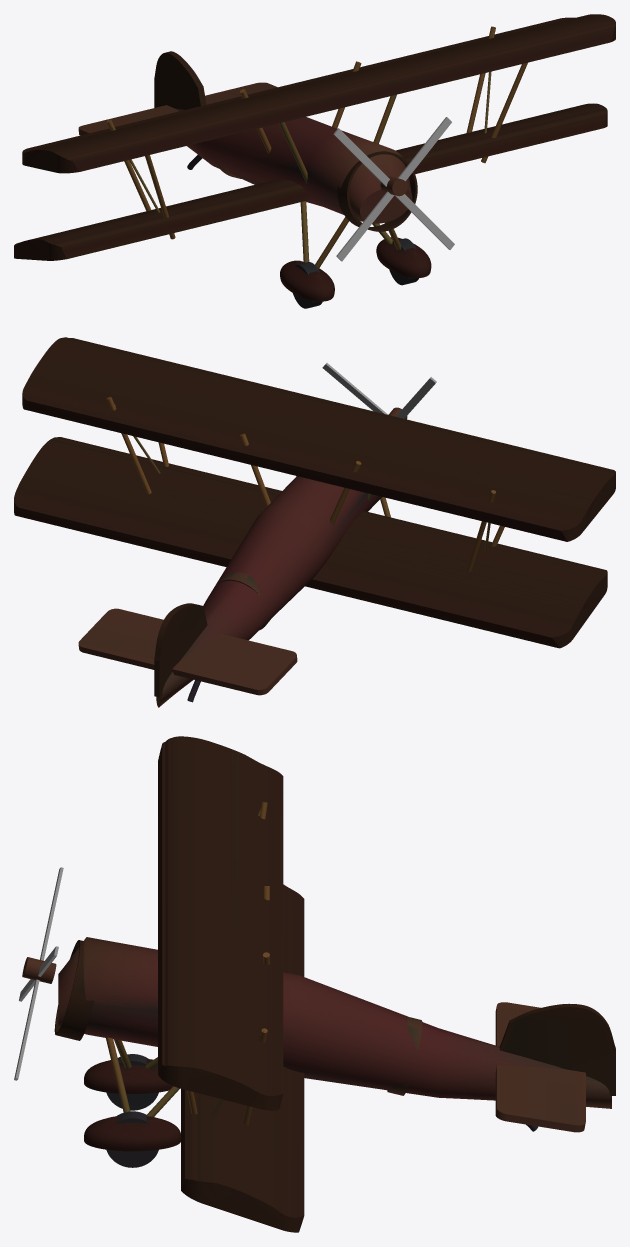
3 views of the same model, one above another, from view 1: azimuth 30°, elevation 25°; view 2: azimuth 150°, elevation 25°; view 3: azimuth 270°, elevation 25° (orthographic). The views are drawn at different scales.
Parts seen in each view (by area): view 1: upper_airfoil, lower_airfoil, body, fin, tailplane, wheel_cover.001, wheel_cover, blade.001, blade, nose_rim, wing_strut, wing_strut.001 (+2 smaller); view 2: upper_airfoil, lower_airfoil, body, tailplane, fin, blade.001; view 3: upper_airfoil, body, lower_airfoil, fin, tailplane, wheel_cover, wheel_cover.001, nose_rim, wheel, blade, wheel.001.
Part boxes in pixels (x1=…): upper_airfoil: x1=22, y1=14, x2=615, y2=173; lower_airfoil: x1=14, y1=103, x2=607, y2=260; body: x1=176, y1=108, x2=412, y2=223; fin: x1=154, y1=51, x2=206, y2=109; tailplane: x1=78, y1=82, x2=277, y2=135; wheel_cover.001: x1=280, y1=260, x2=334, y2=301; wheel_cover: x1=376, y1=237, x2=431, y2=277; blade.001: x1=336, y1=117, x2=451, y2=261; blade: x1=333, y1=128, x2=454, y2=249; nose_rim: x1=337, y1=151, x2=417, y2=231; wing_strut: x1=481, y1=62, x2=527, y2=163; wing_strut.001: x1=466, y1=26, x2=495, y2=133; upper_airfoil: x1=22, y1=337, x2=615, y2=541; lower_airfoil: x1=14, y1=437, x2=607, y2=648; body: x1=156, y1=476, x2=381, y2=707; tailplane: x1=78, y1=608, x2=297, y2=695; fin: x1=154, y1=603, x2=207, y2=697; blade.001: x1=322, y1=363, x2=387, y2=414; upper_airfoil: x1=158, y1=736, x2=283, y2=1110; body: x1=58, y1=937, x2=611, y2=1108; lower_airfoil: x1=181, y1=884, x2=304, y2=1232; fin: x1=499, y1=1003, x2=615, y2=1095; tailplane: x1=495, y1=1002, x2=585, y2=1132; wheel_cover: x1=84, y1=1116, x2=180, y2=1151; wheel_cover.001: x1=84, y1=1059, x2=172, y2=1093; nose_rim: x1=54, y1=940, x2=94, y2=1040; wheel: x1=106, y1=1111, x2=158, y2=1167; blade: x1=14, y1=867, x2=63, y2=1080; wheel.001: x1=106, y1=1054, x2=158, y2=1110.
Bounding box in the file's own units: 9 × 3.07 × 6.93.
